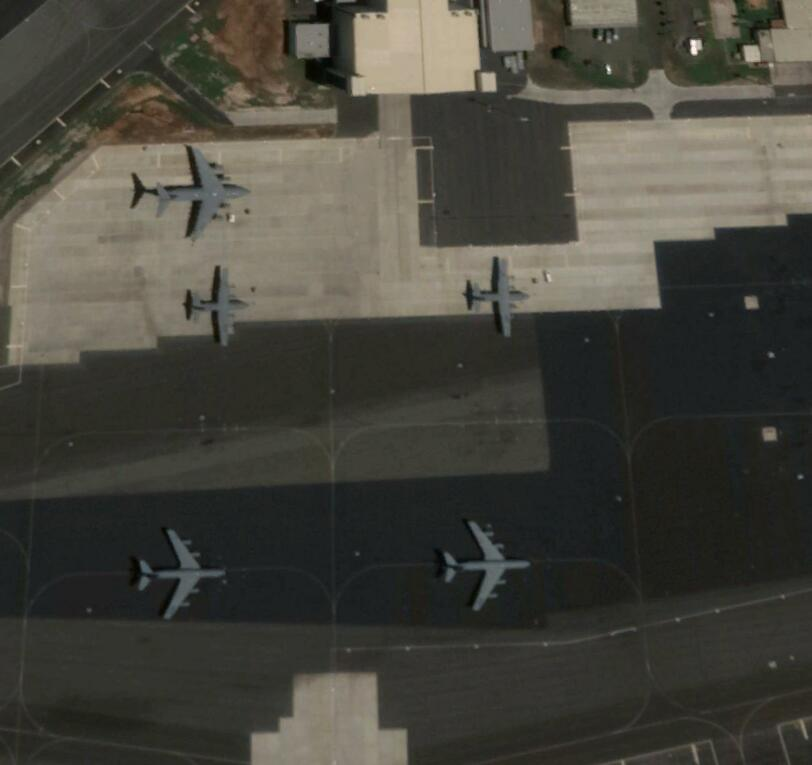A14: (135, 529, 230, 619), (442, 521, 531, 611)
A2: (185, 264, 252, 349), (468, 255, 533, 339)
A3: (152, 144, 253, 241)
